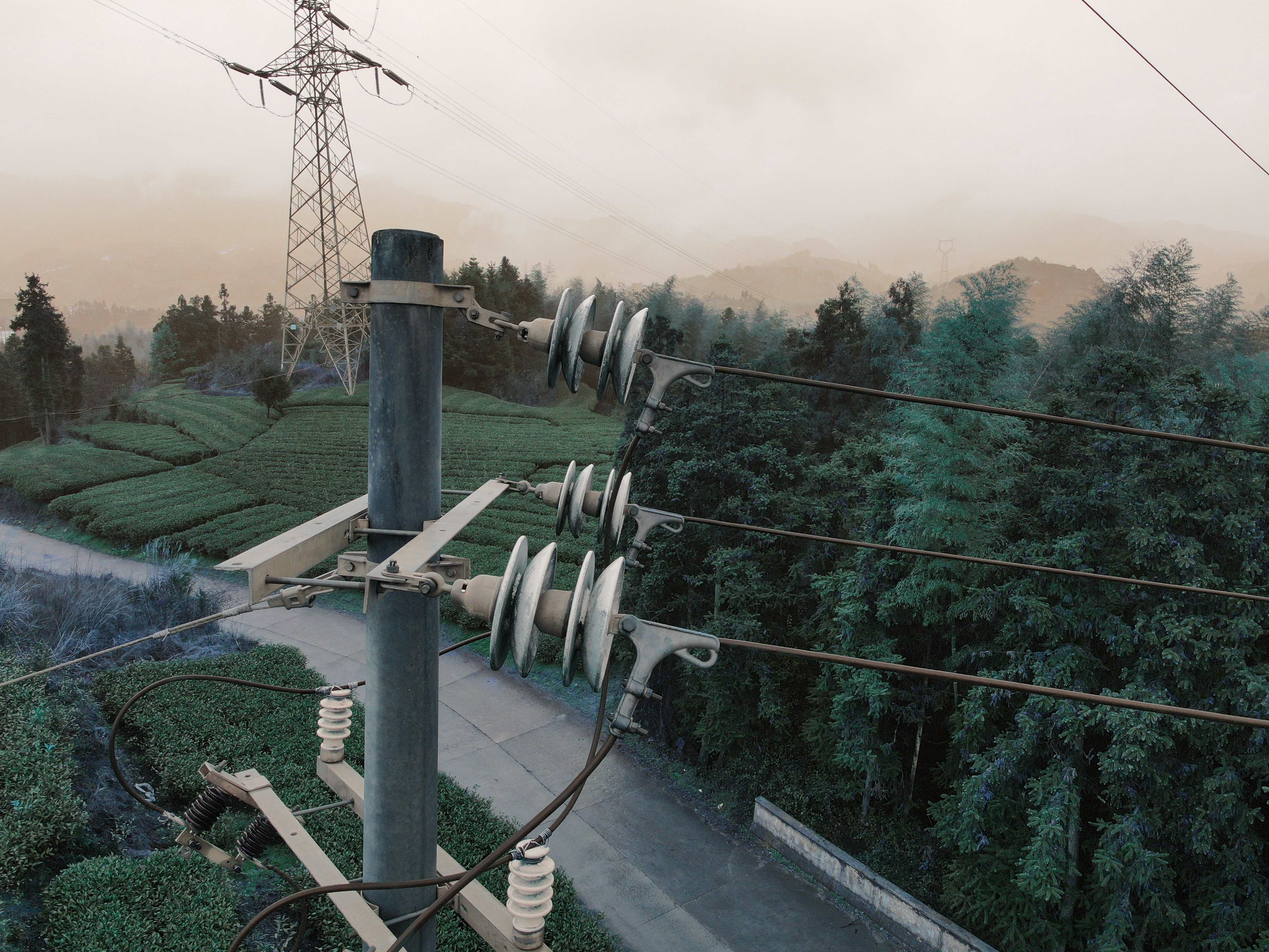severe_soiling_no_discharge_whole: (455, 533, 634, 698), (525, 286, 653, 407), (534, 457, 634, 548), (504, 839, 556, 948), (313, 683, 355, 766)
